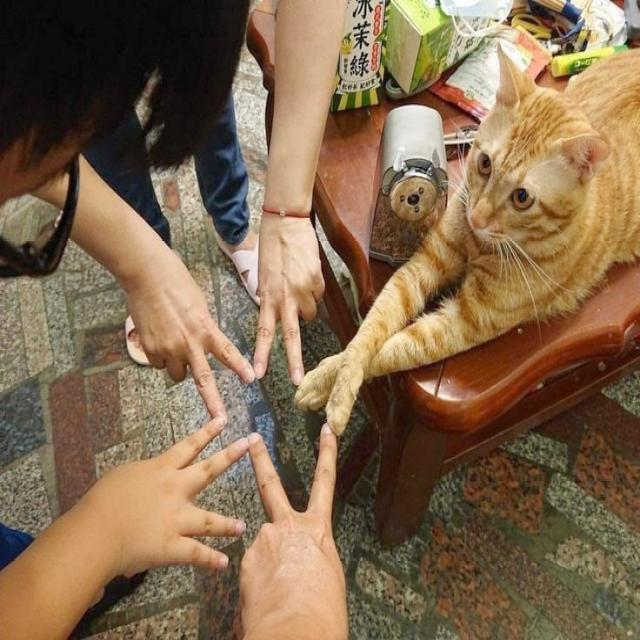cat: (309, 56, 640, 426)
